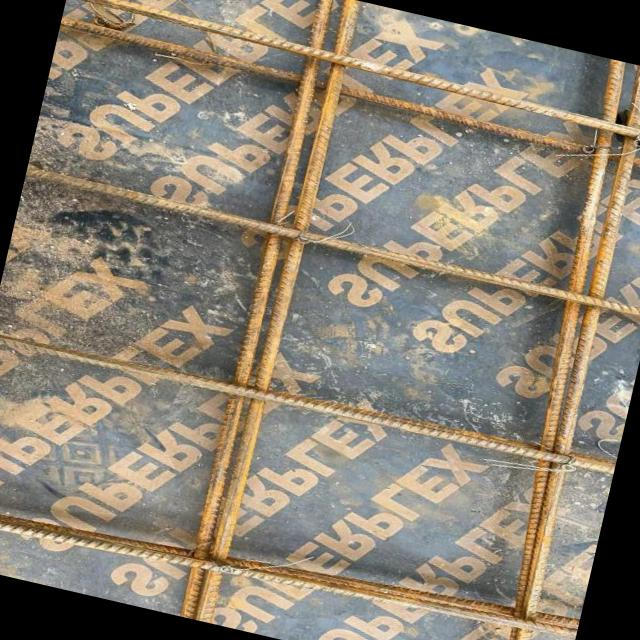ribbed bar: (197, 0, 363, 624), (0, 318, 615, 485), (175, 0, 336, 618), (0, 475, 579, 640), (25, 166, 640, 320), (58, 17, 640, 178), (64, 0, 640, 152), (485, 58, 640, 610), (492, 64, 640, 640)
